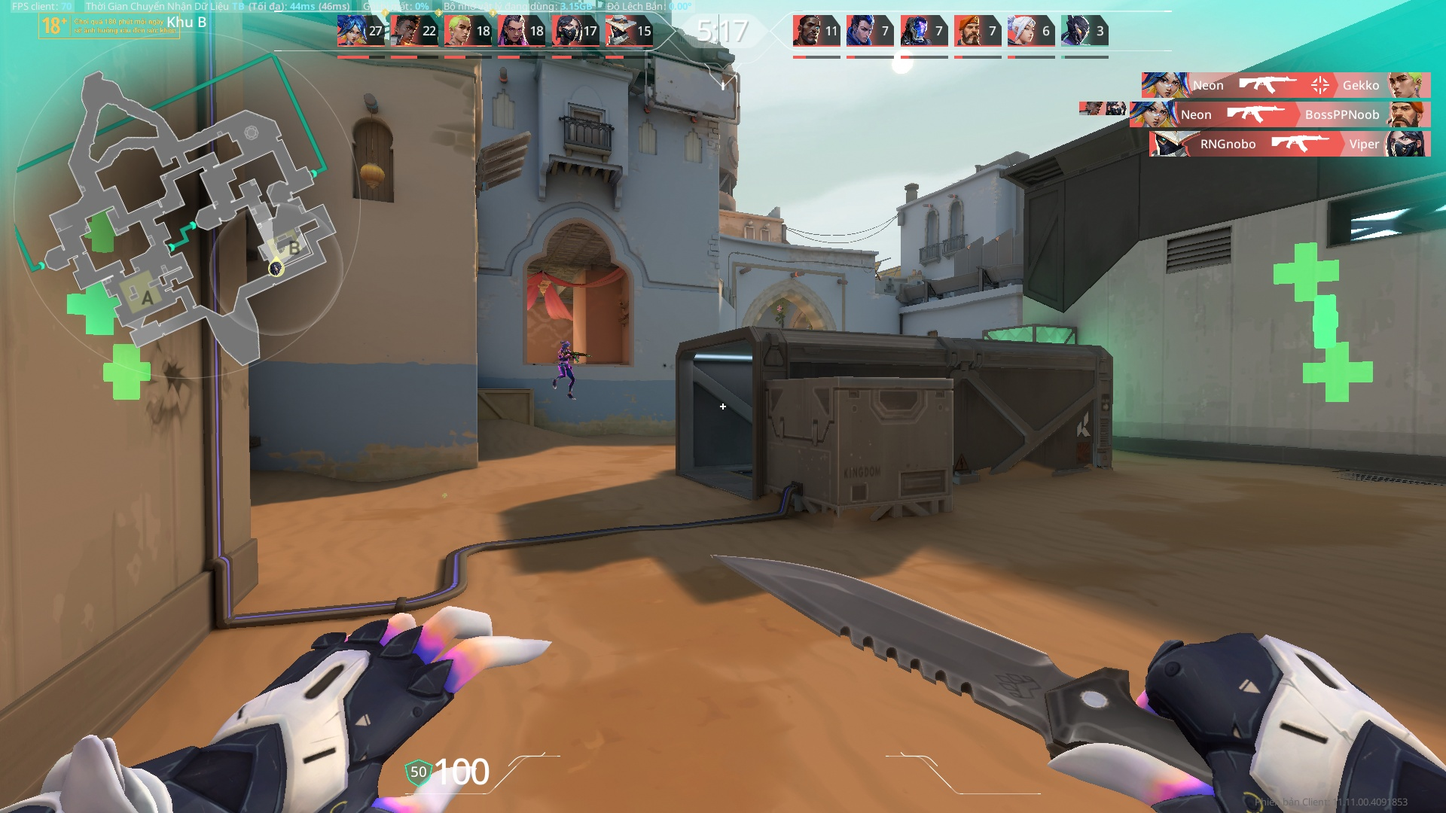body: (557, 348, 574, 365)
head: (559, 340, 570, 352)
